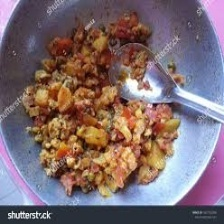sabzi: (22, 9, 184, 201)
